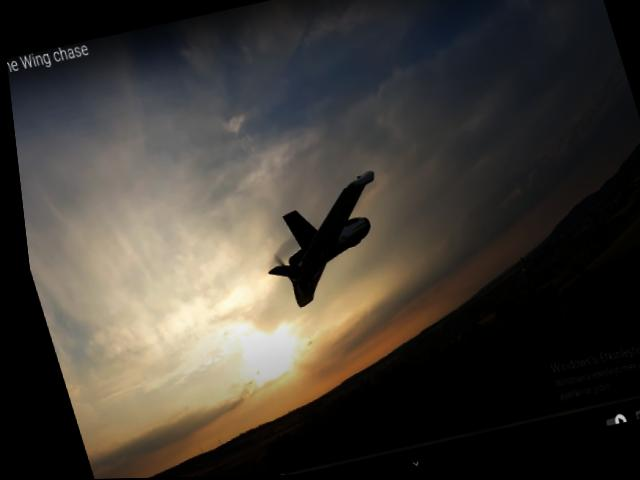plane: (239, 171, 404, 312)
